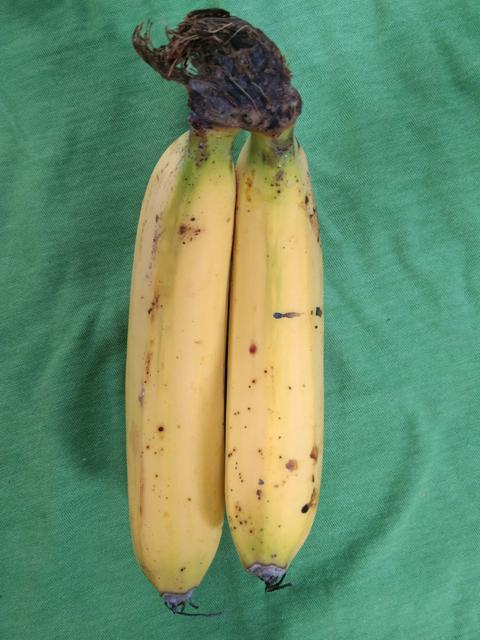ripe: (108, 131, 257, 607), (213, 137, 336, 589)
